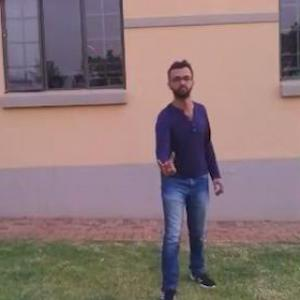takeoff-hand: (153, 148, 180, 180)
